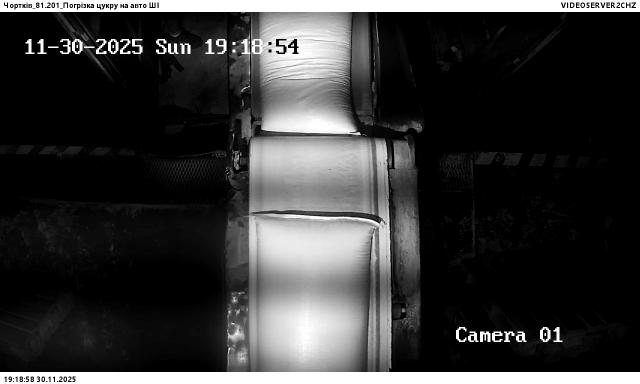bag: (251, 214, 381, 371), (260, 12, 361, 137)
